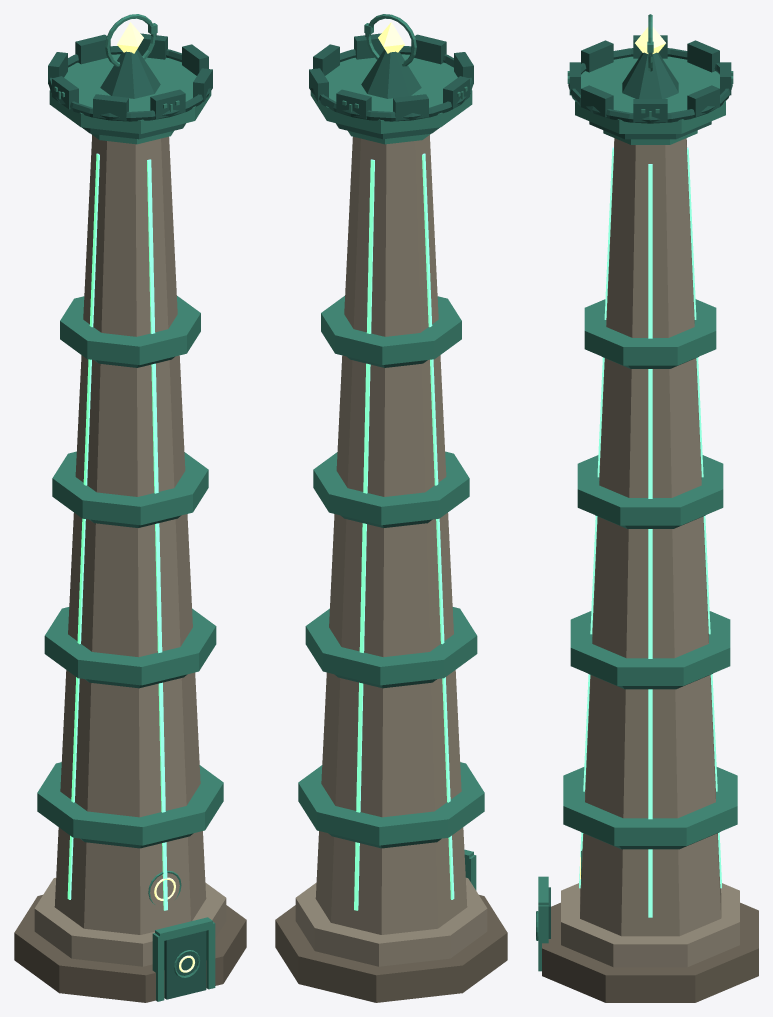
The model's file is skywatch_tower.glb.
3 views of the same model, side by side, from view 1: azimuth 30°, elevation 25°; view 2: azimuth 150°, elevation 25°; view 3: azimuth 270°, elevation 25° (orthographic).
Parts seen in each view (by area): view 1: Shaft, Crown, Plinth1, Ledge1, Ledge2, Seams, Ledge3, Plinth2, Ledge4, Door, Spire, BeaconRing; view 2: Shaft, Crown, Plinth1, Plinth2, Ledge1, Ledge2, Seams, Ledge3, Ledge4, Spire, BeaconRing; view 3: Shaft, Crown, Plinth1, Plinth2, Ledge1, Ledge2, Seams, Ledge3, Ledge4, Spire, Door.
Part boxes in pixels (x1,y1,x2,y2): Shaft: (54, 135, 206, 934); Crown: (48, 33, 212, 144); Plinth1: (14, 895, 246, 1002); Ledge1: (37, 762, 223, 848); Ledge2: (44, 607, 216, 688); Seams: (67, 153, 167, 910); Ledge3: (52, 451, 208, 527); Plinth2: (34, 877, 226, 966); Ledge4: (60, 296, 200, 367); Door: (148, 870, 215, 1001); Spire: (100, 49, 160, 98); BeaconRing: (105, 14, 157, 66); Shaft: (315, 135, 467, 934); Crown: (309, 33, 473, 144); Plinth1: (275, 895, 507, 1002); Plinth2: (295, 877, 487, 966); Ledge1: (298, 762, 484, 848); Ledge2: (305, 607, 477, 688); Seams: (354, 153, 454, 910); Ledge3: (313, 451, 469, 527); Ledge4: (321, 296, 461, 367); Spire: (361, 49, 421, 98); BeaconRing: (364, 14, 416, 66); Shaft: (580, 138, 721, 936); Crown: (567, 35, 733, 144); Plinth1: (542, 902, 758, 1002); Plinth2: (561, 883, 739, 967); Ledge1: (563, 767, 737, 849); Ledge2: (570, 611, 730, 689); Seams: (579, 147, 721, 917); Ledge3: (577, 455, 723, 528); Ledge4: (584, 299, 716, 368); Spire: (622, 52, 678, 98); Door: (536, 850, 582, 971).
Size of the model in its own units: 8.5 by 40.7 by 8.74.
